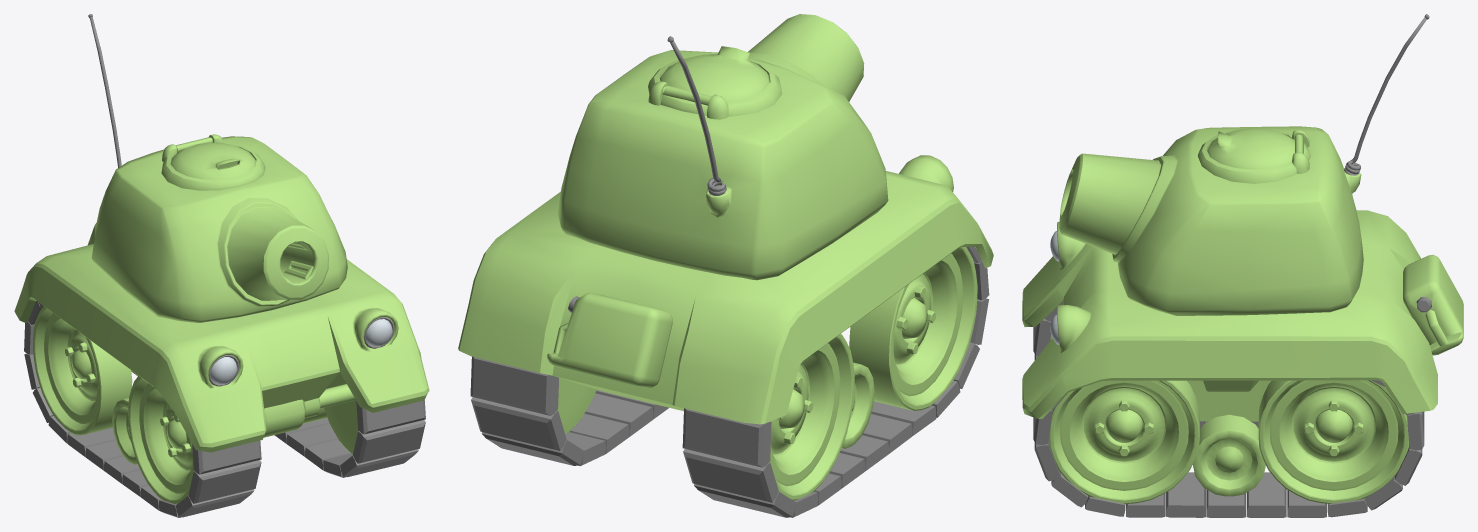
The model's file is CompleteTank.gltf.
3 views of the same model, side by side, from view 1: azimuth 30°, elevation 25°; view 2: azimuth 150°, elevation 25°; view 3: azimuth 270°, elevation 25° (orthographic). The views are drawn at different scales.
Parts seen in each view (by area): view 1: TankChassis, TankTurret, TankRenderers; view 2: TankChassis, TankTurret, TankRenderers; view 3: TankChassis, TankTurret, TankRenderers.
Boxes of the visible parts, <box> form: TankChassis: <box>14,223,429,464</box>; TankTurret: <box>88,14,347,322</box>; TankRenderers: <box>24,301,425,517</box>; TankChassis: <box>458,155,993,448</box>; TankTurret: <box>558,14,888,280</box>; TankRenderers: <box>470,246,989,517</box>; TankChassis: <box>1022,210,1463,496</box>; TankTurret: <box>1059,14,1429,315</box>; TankRenderers: <box>1033,302,1424,517</box>.
Size of the model in its own units: 1.7 by 2.49 by 2.37.
